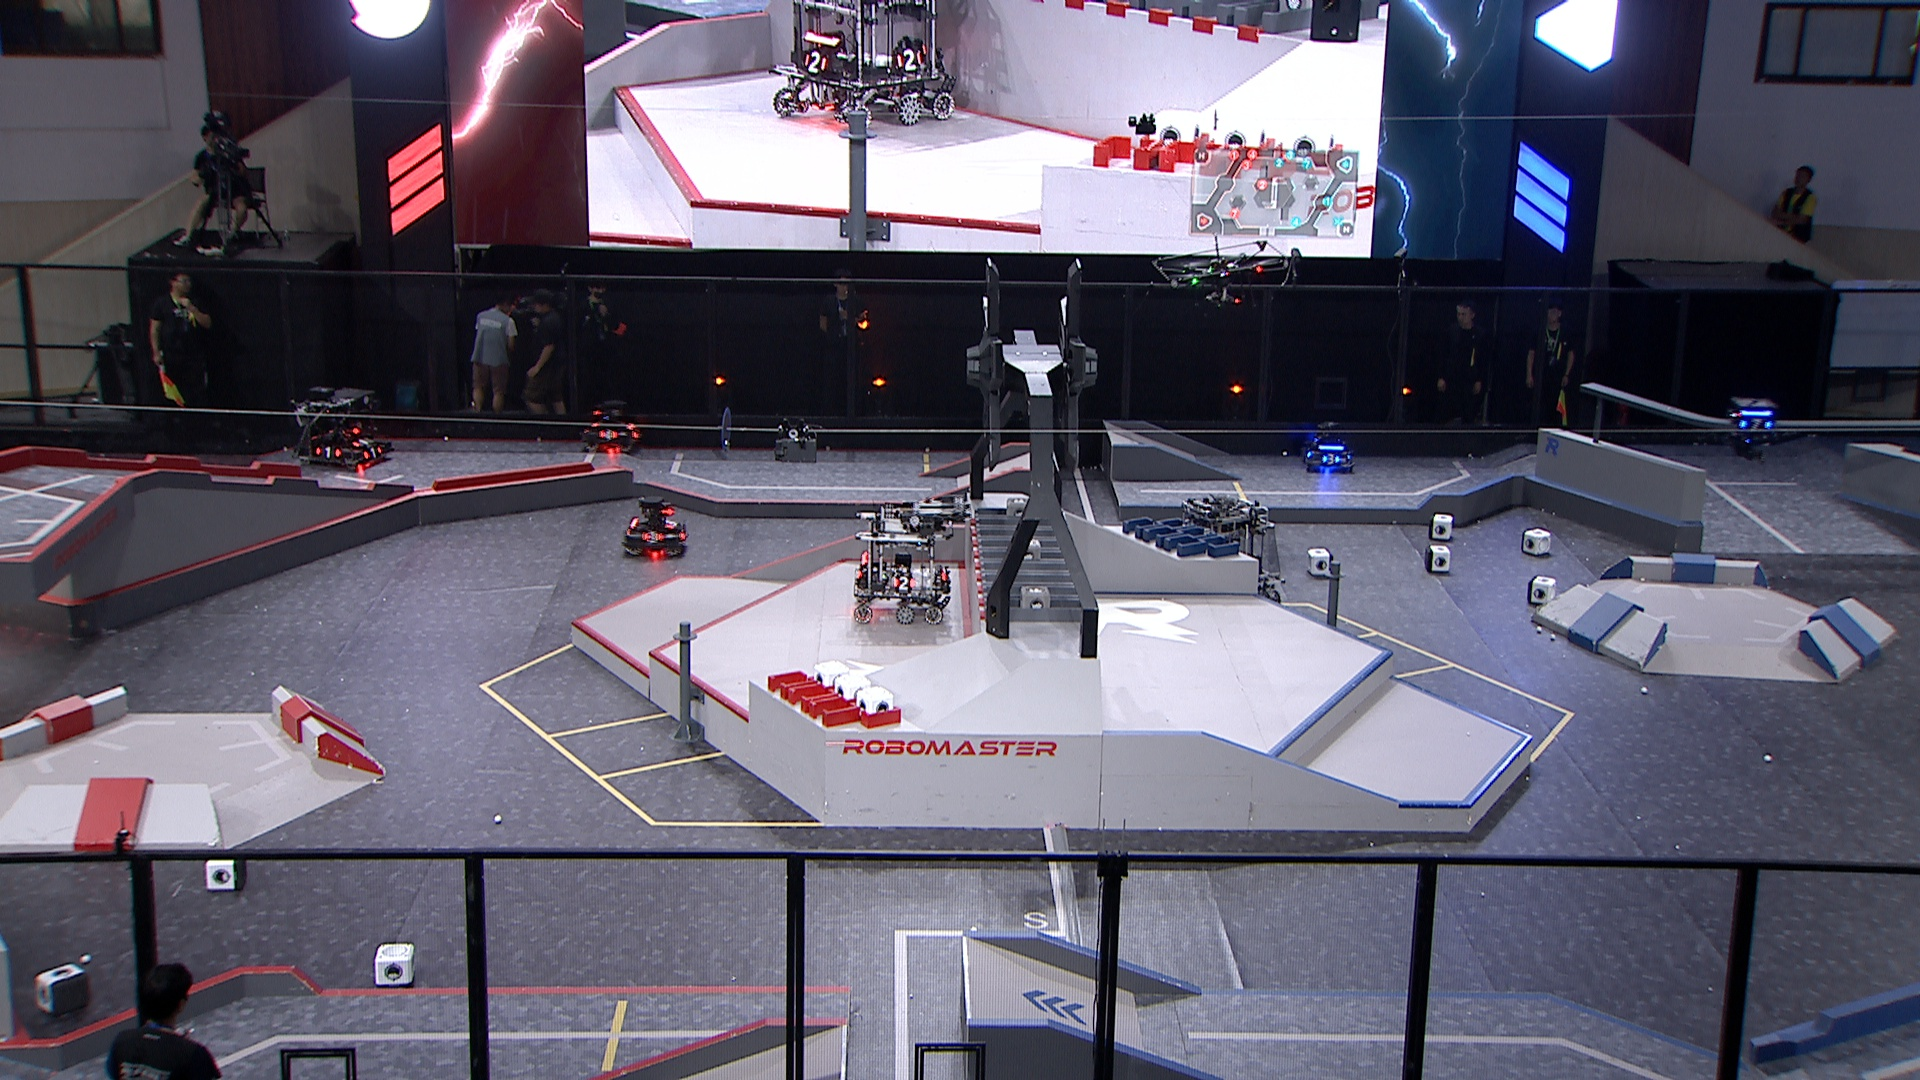armor: (1733, 417, 1774, 433), (891, 571, 918, 593), (357, 443, 385, 462), (314, 444, 343, 462), (641, 527, 666, 546), (349, 434, 376, 448), (662, 516, 680, 531), (1319, 454, 1342, 465), (597, 427, 618, 440)
car: (847, 498, 953, 626), (1172, 495, 1286, 611), (291, 385, 396, 471), (621, 495, 692, 559), (583, 396, 644, 455), (1299, 419, 1360, 473)
ignore: (770, 1, 957, 133)
watcher: (1726, 394, 1782, 462)
